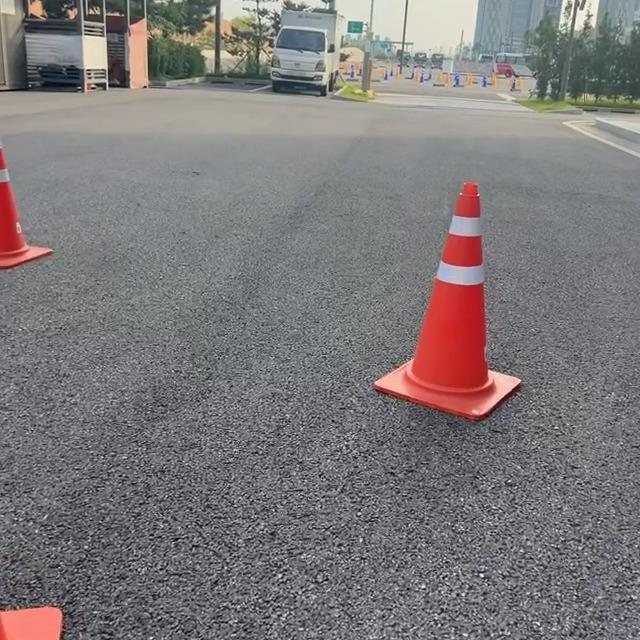fallen_object: (343, 149, 571, 417), (0, 125, 115, 362)
